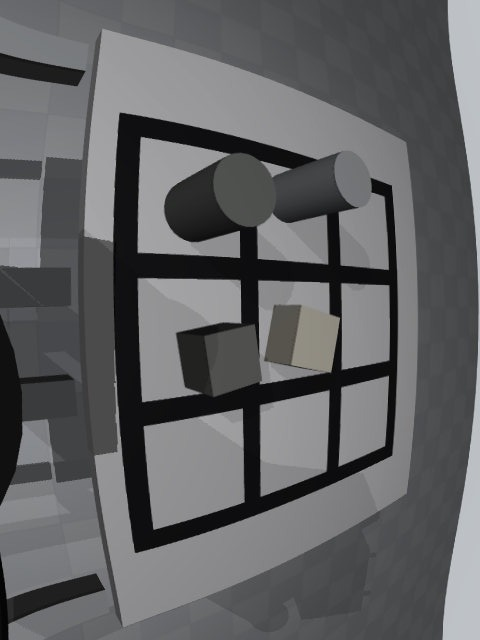can: (272, 150, 372, 223)
cube: (177, 322, 262, 398)
cylinder: (164, 153, 276, 242)
foam: (264, 305, 340, 372)
